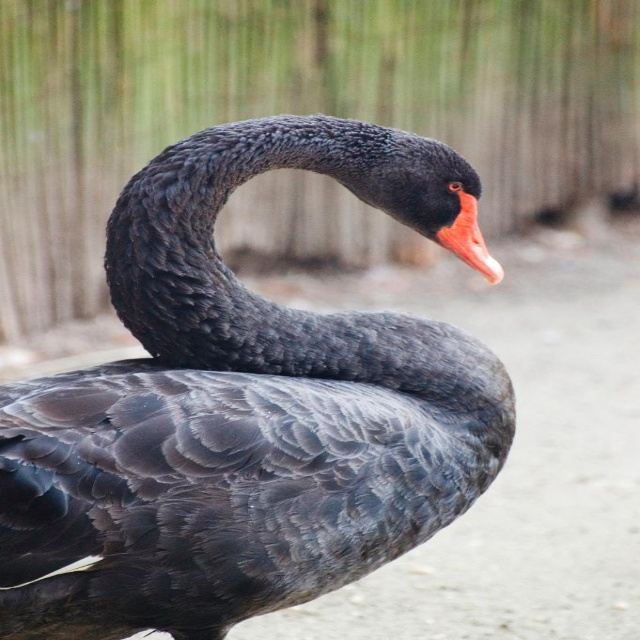Swan: (0, 115, 516, 640)
